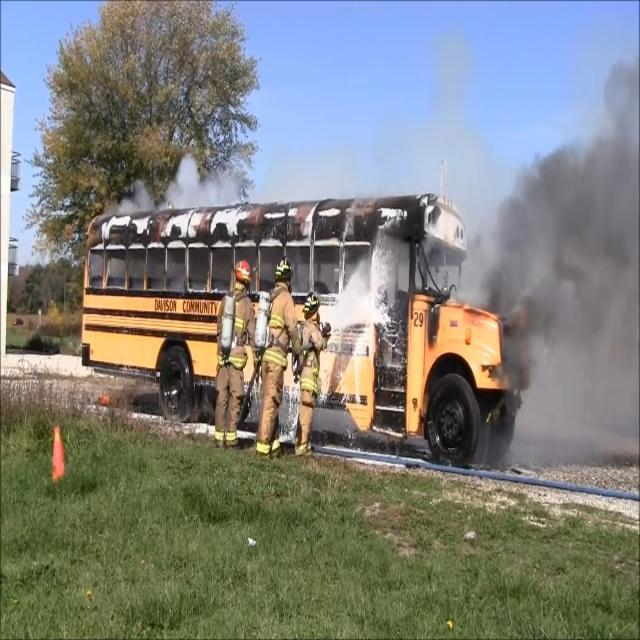Smoke: (521, 133, 640, 404)
